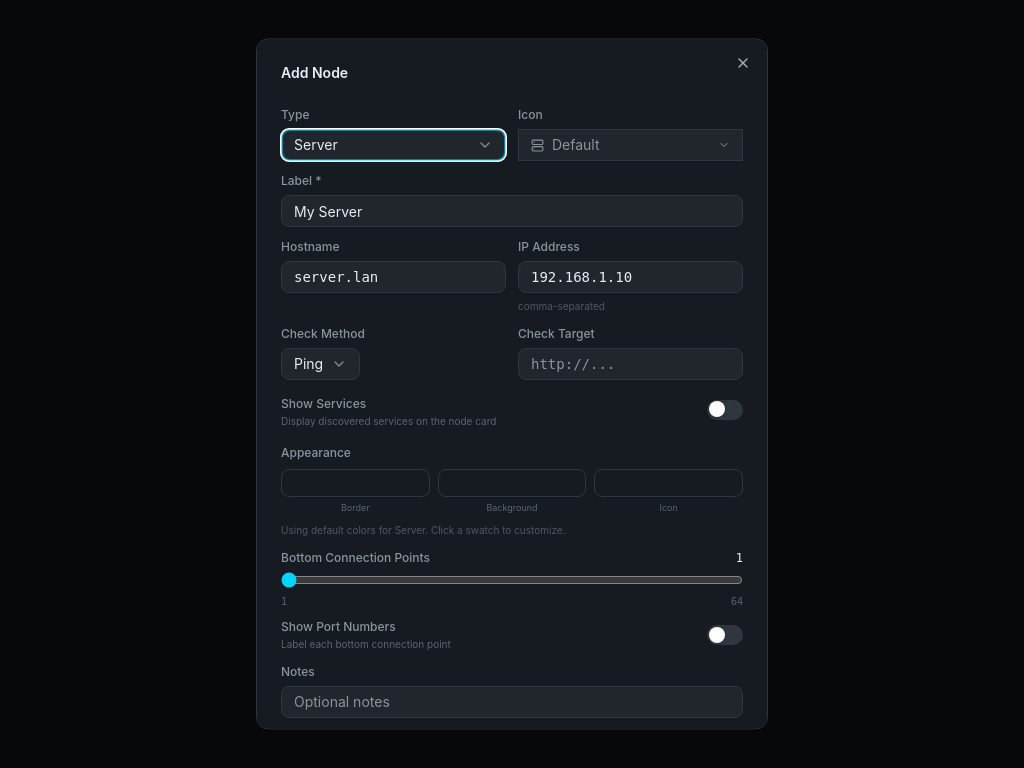
Test case: NodeModal › filters icons by search query
Click the button "Default" at (630, 145), box [518,129,743,161]
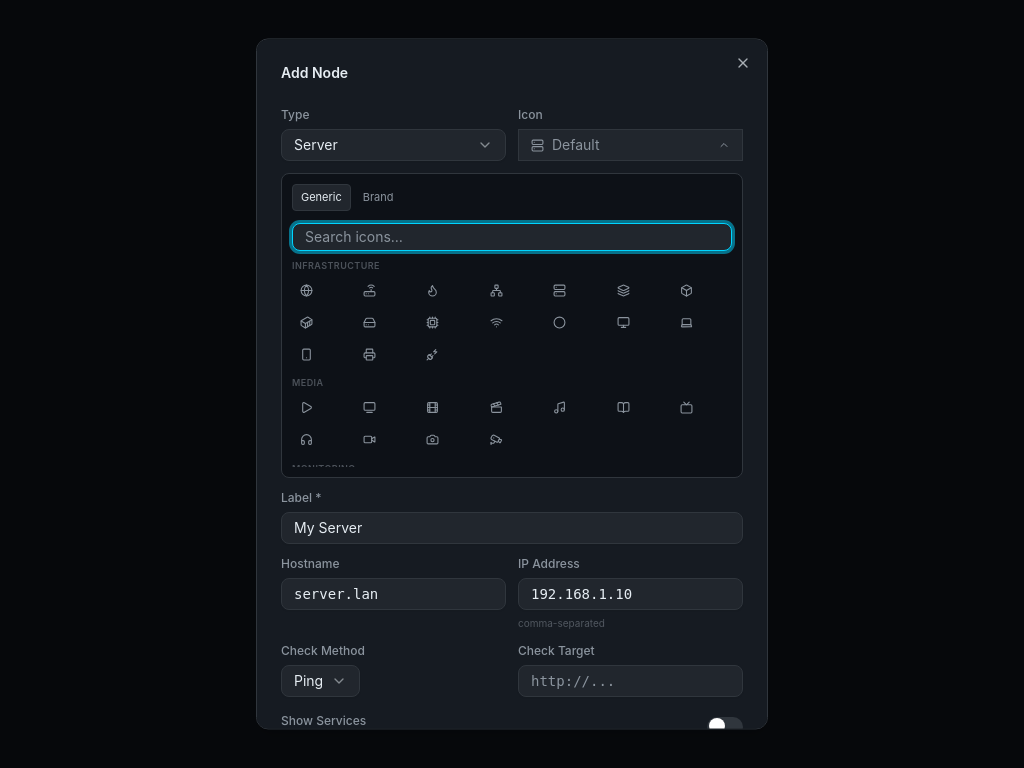
Type "grafana" into the field with placeholder "Search icons…" at (512, 237), box [292,223,732,251]
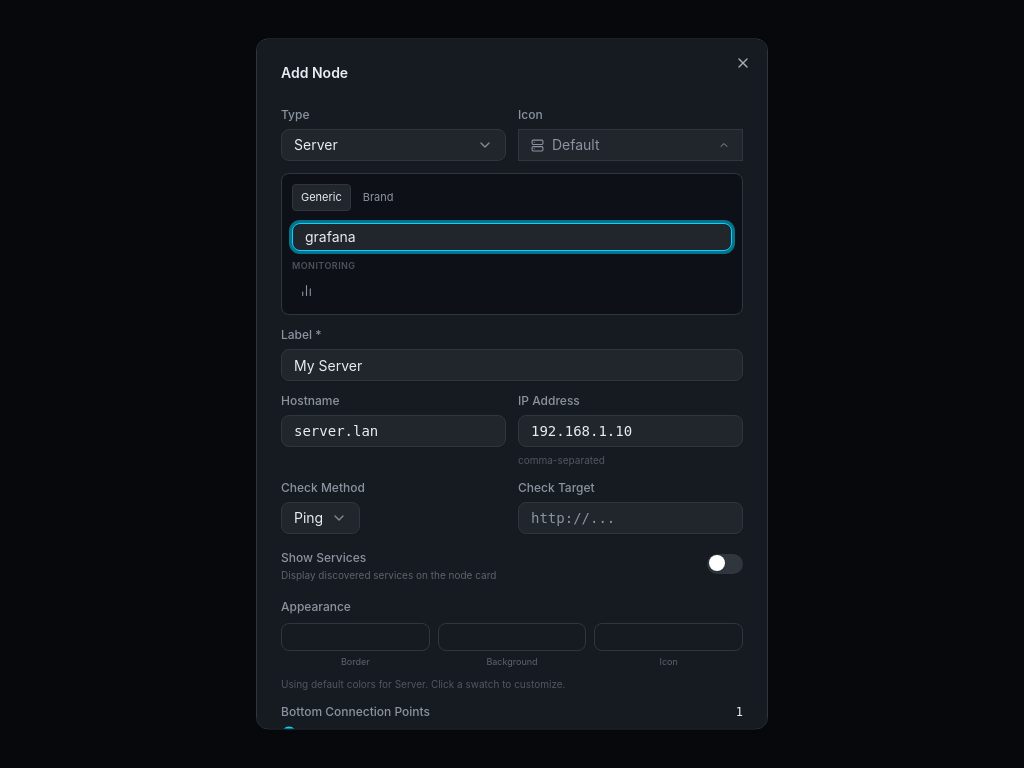
Expected: the button titled "Grafana / Kibana" is shown, [292,276,320,304]
Expected: the button titled "Router" is gone
